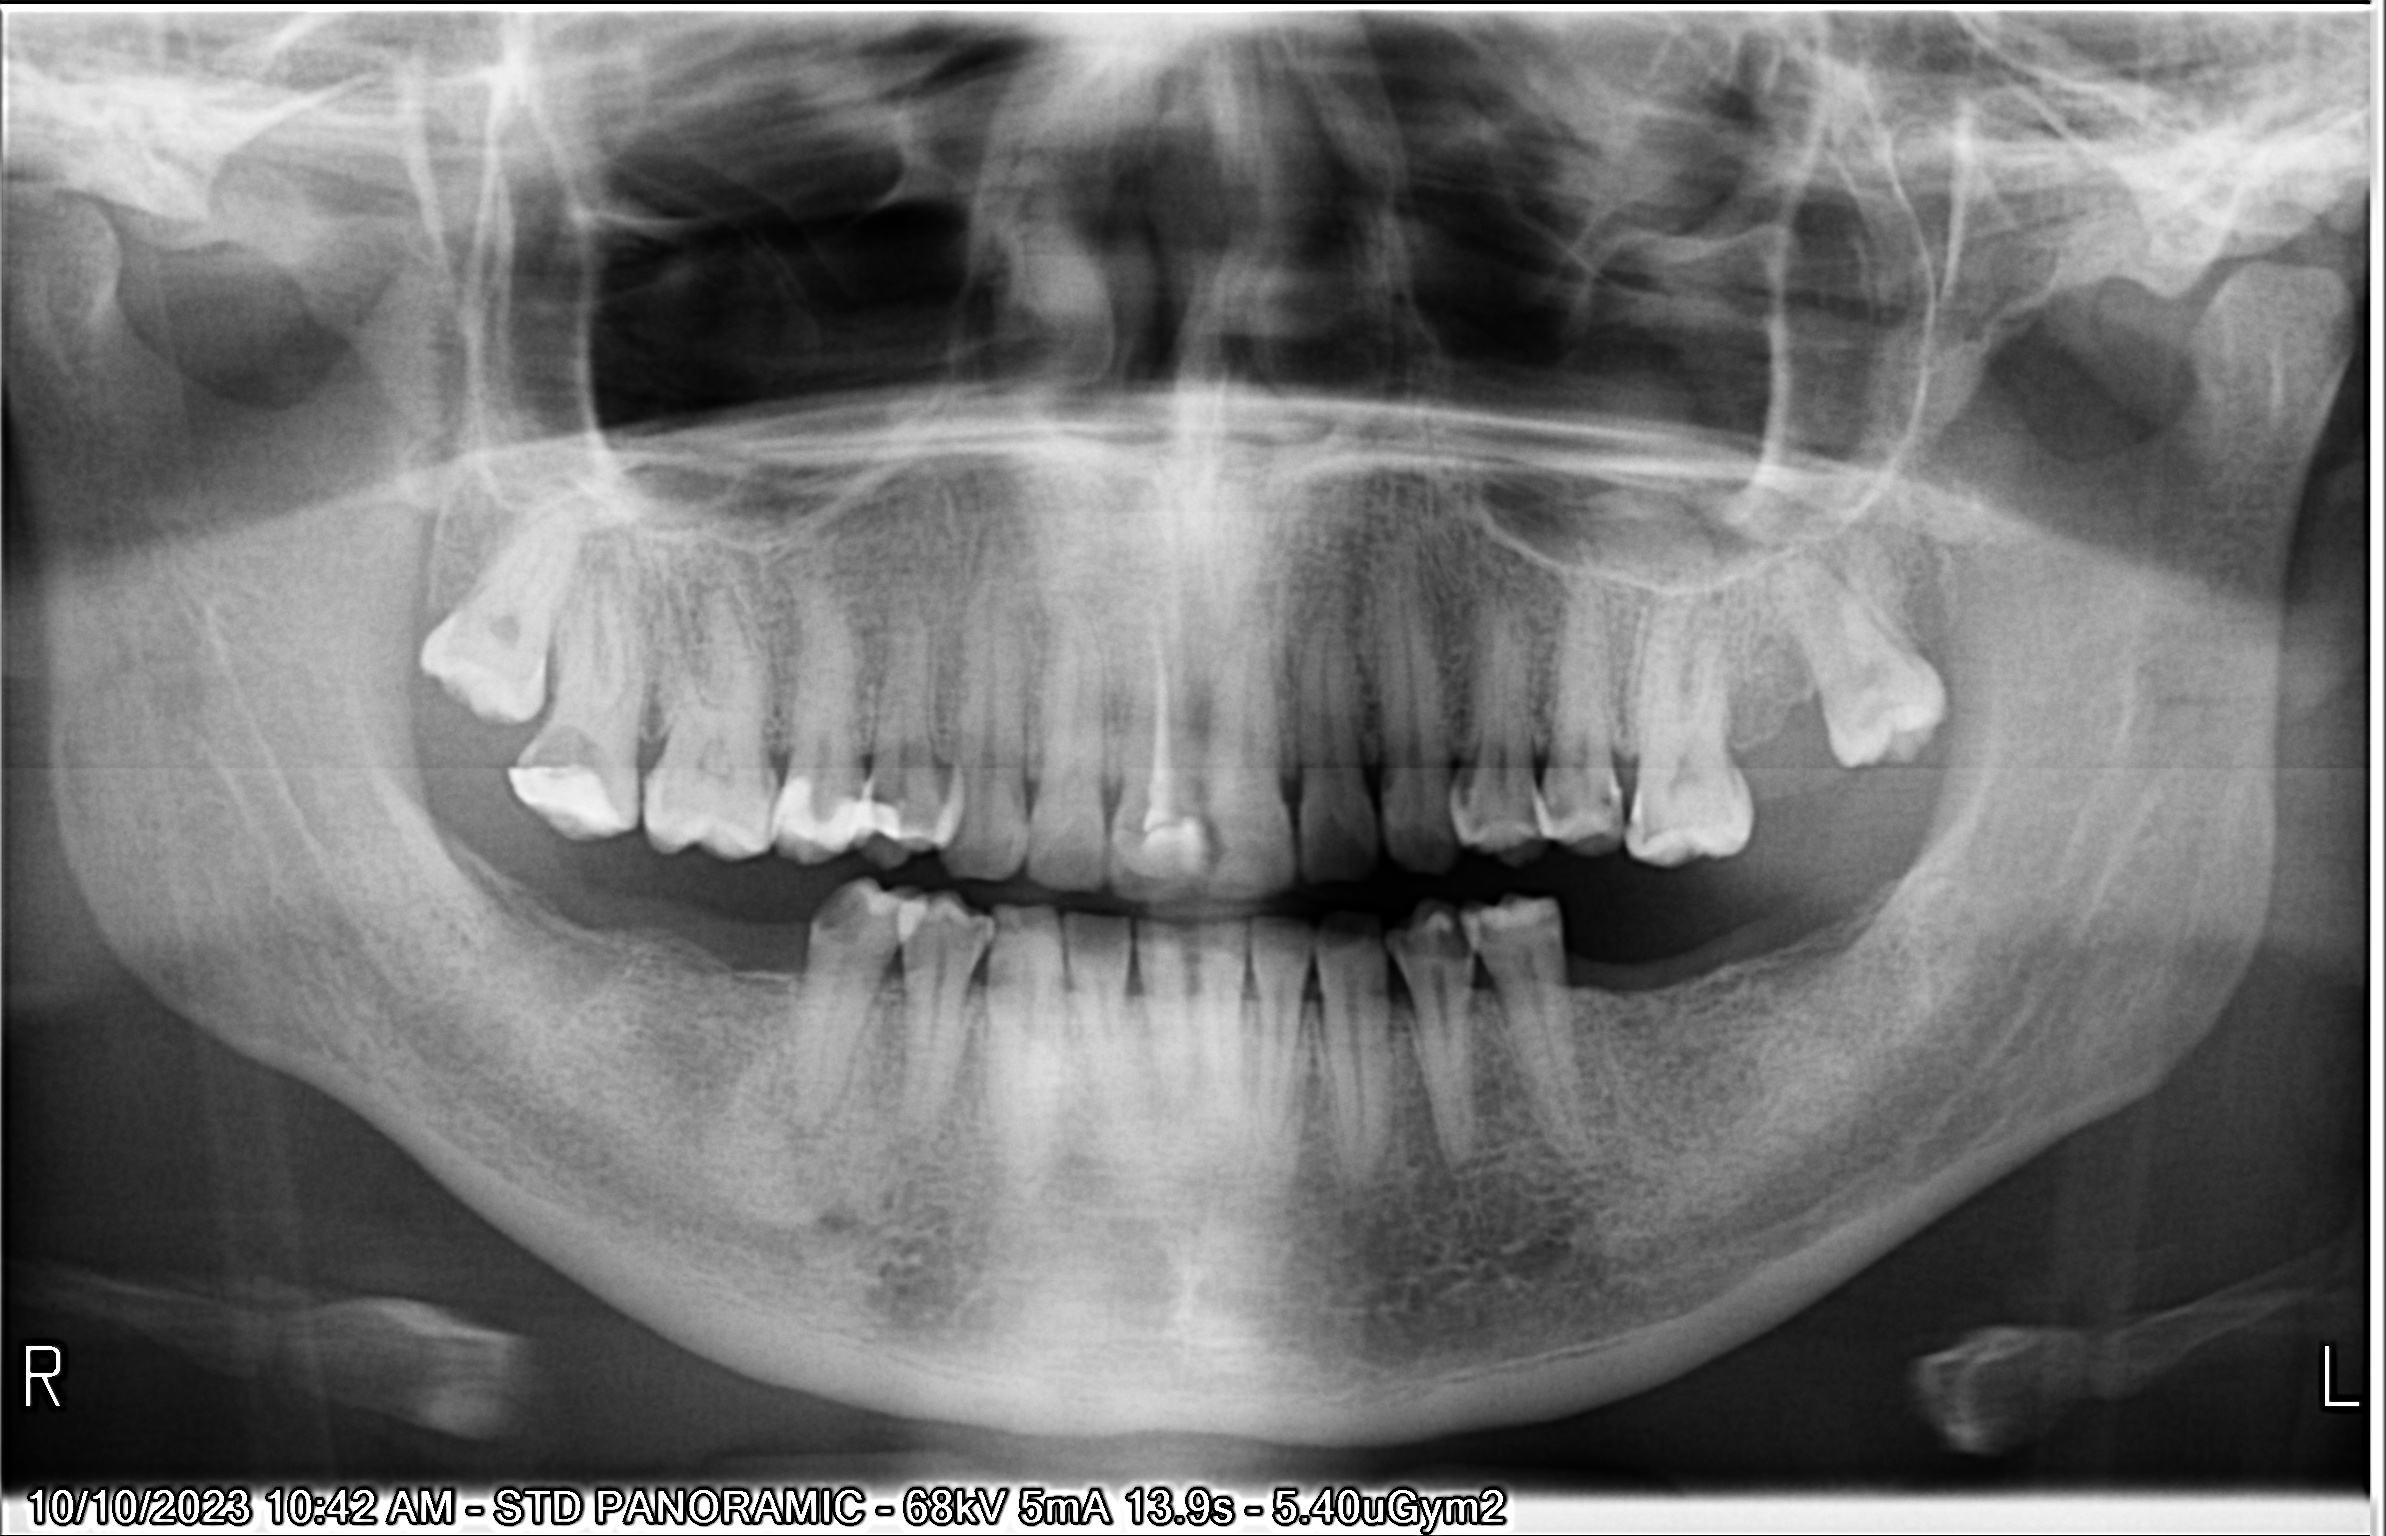CAR: (795, 868, 903, 967), (515, 703, 635, 785), (1850, 682, 1923, 745), (1626, 783, 1683, 856), (1186, 814, 1233, 889), (1431, 908, 1485, 972), (856, 757, 904, 818), (1384, 913, 1423, 985), (1445, 771, 1492, 823), (1591, 771, 1628, 833), (1541, 774, 1579, 833)
END: (1130, 607, 1183, 814)
OBT: (776, 769, 873, 858), (1123, 818, 1203, 901), (866, 781, 911, 852)
